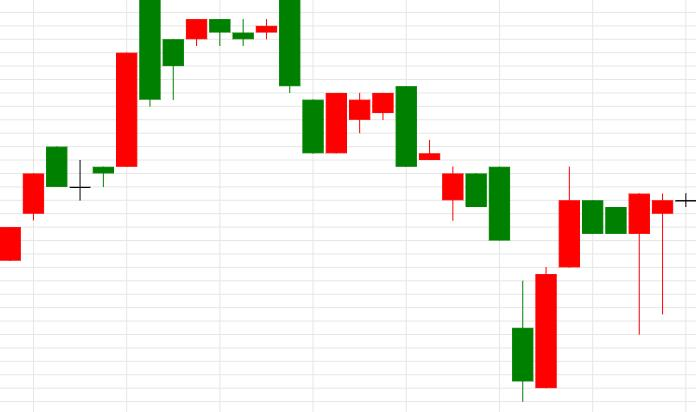bearish_engulfing_fall: (116, 0, 301, 167)
